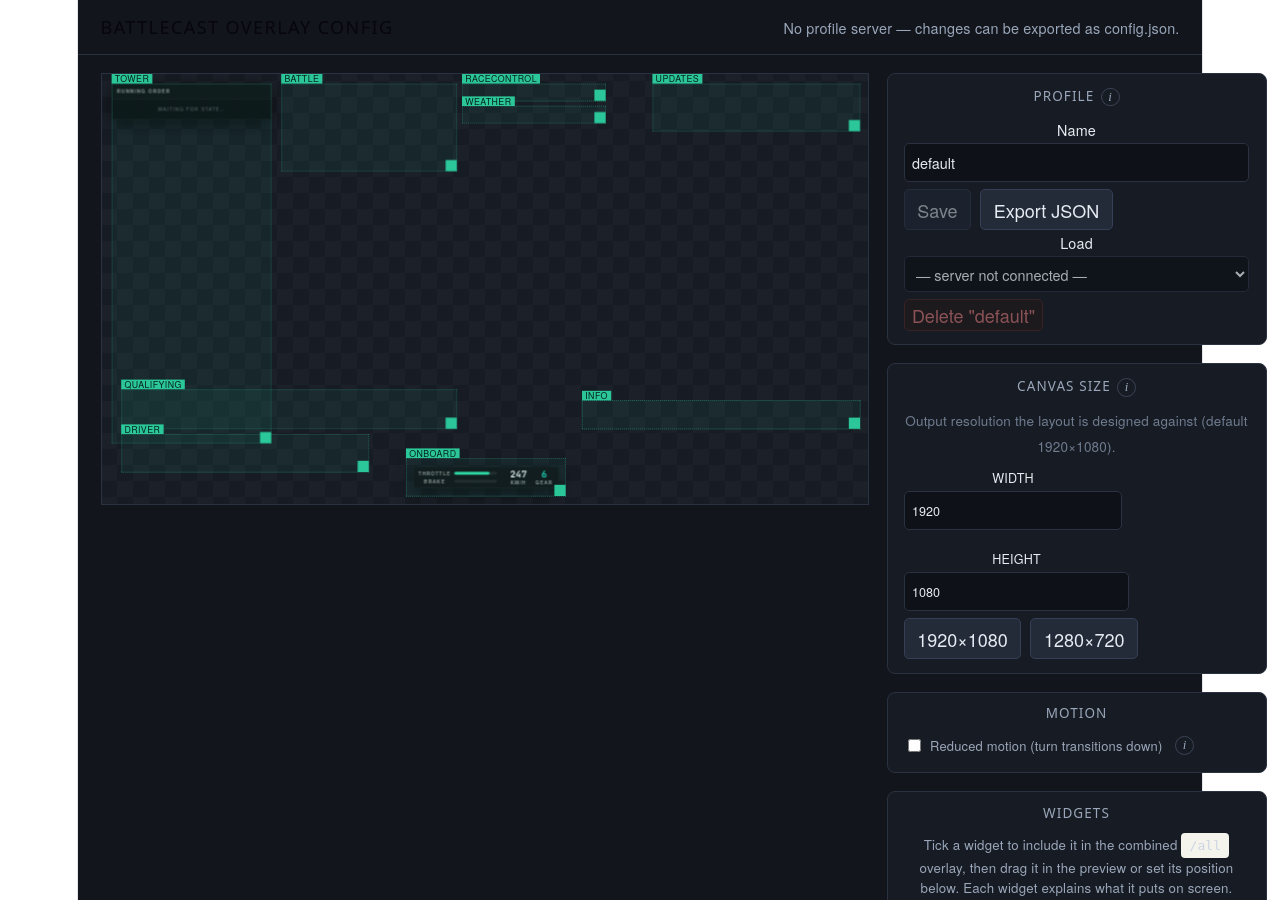
it: config editor: help popovers › toggles back off when the same ⓘ is clicked again
Click the button with test id "help-profile". click: click(1110, 97)
box: [1101, 88, 1120, 106]
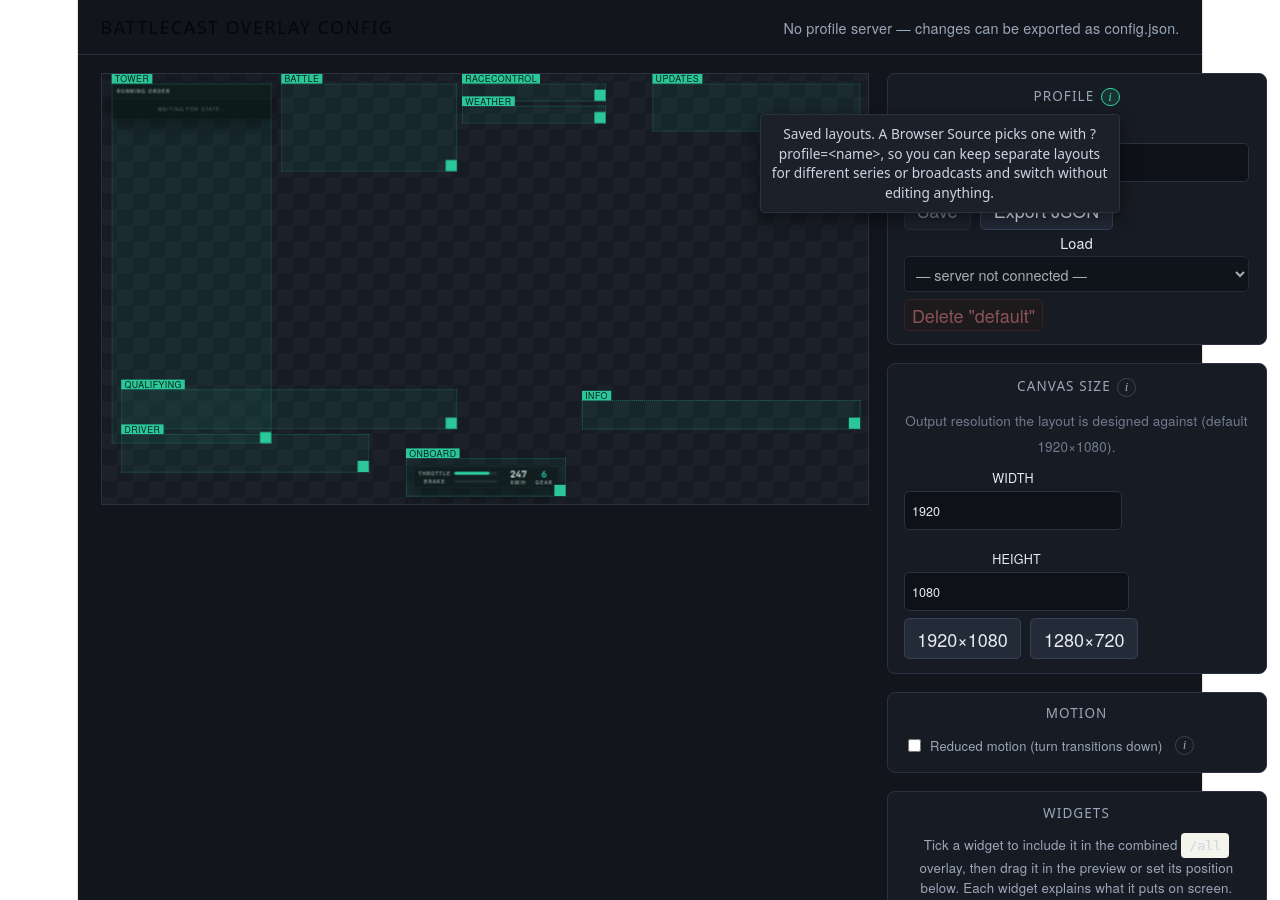
Expected: the tooltip with test id "help-profile-text" is shown, [760, 114, 1120, 213]
Click the button with test id "help-profile". click: click(1110, 97)
box: [1101, 88, 1120, 106]
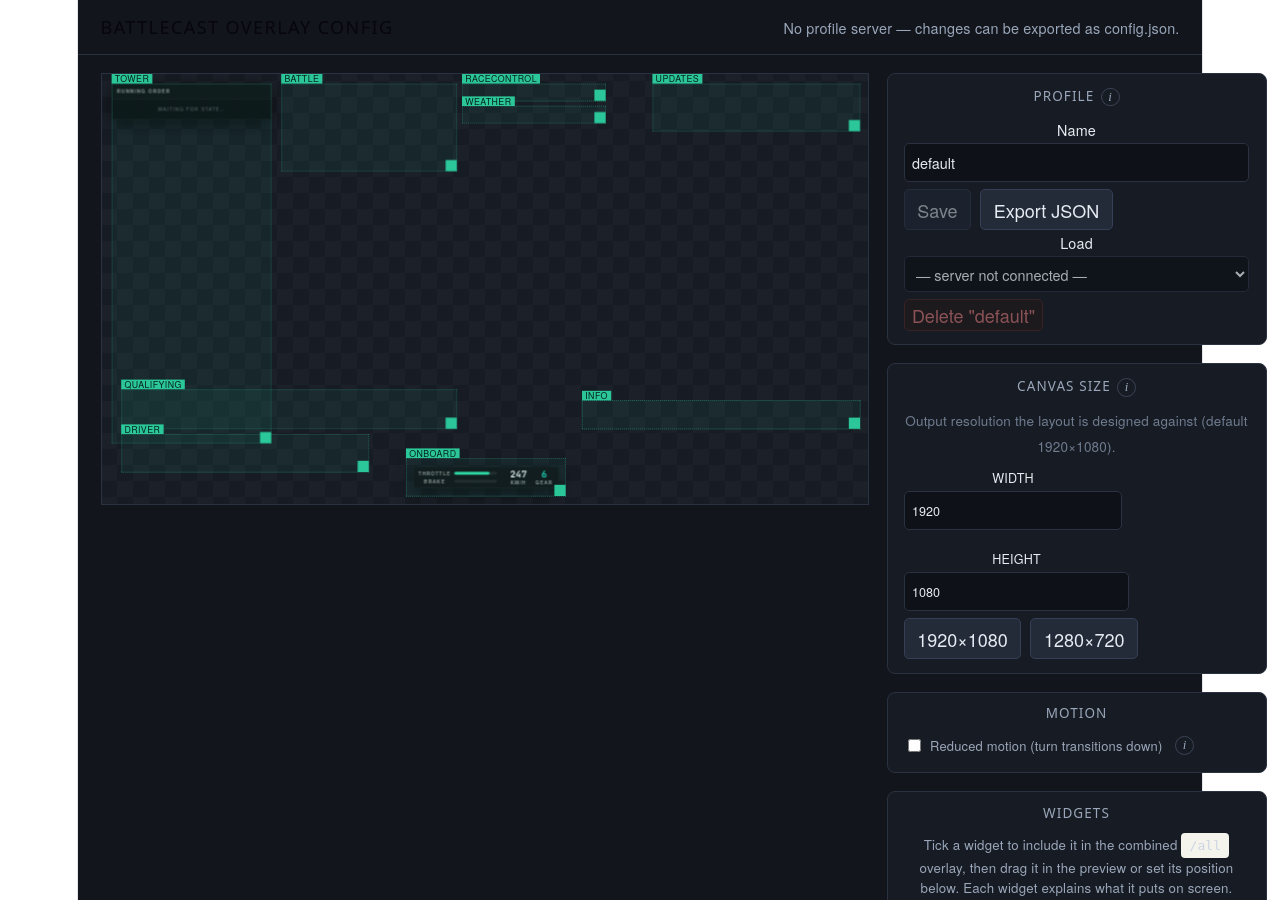
Expected: the tooltip with test id "help-profile-text" is gone
